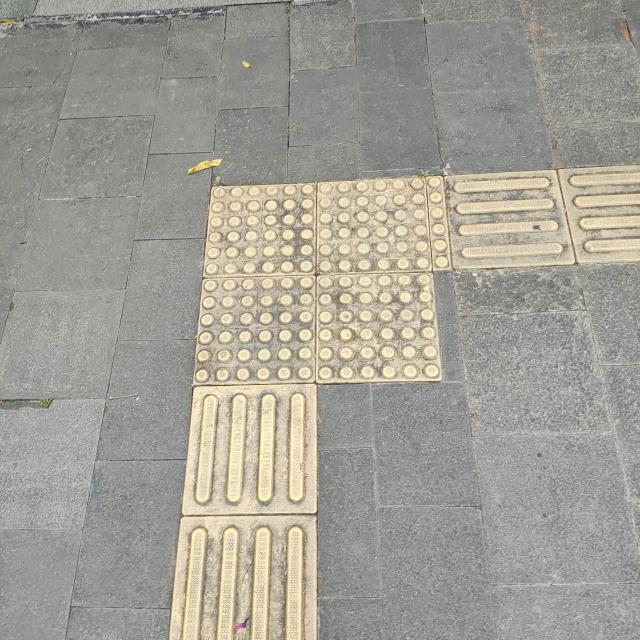kanan: (120, 124, 640, 433)
